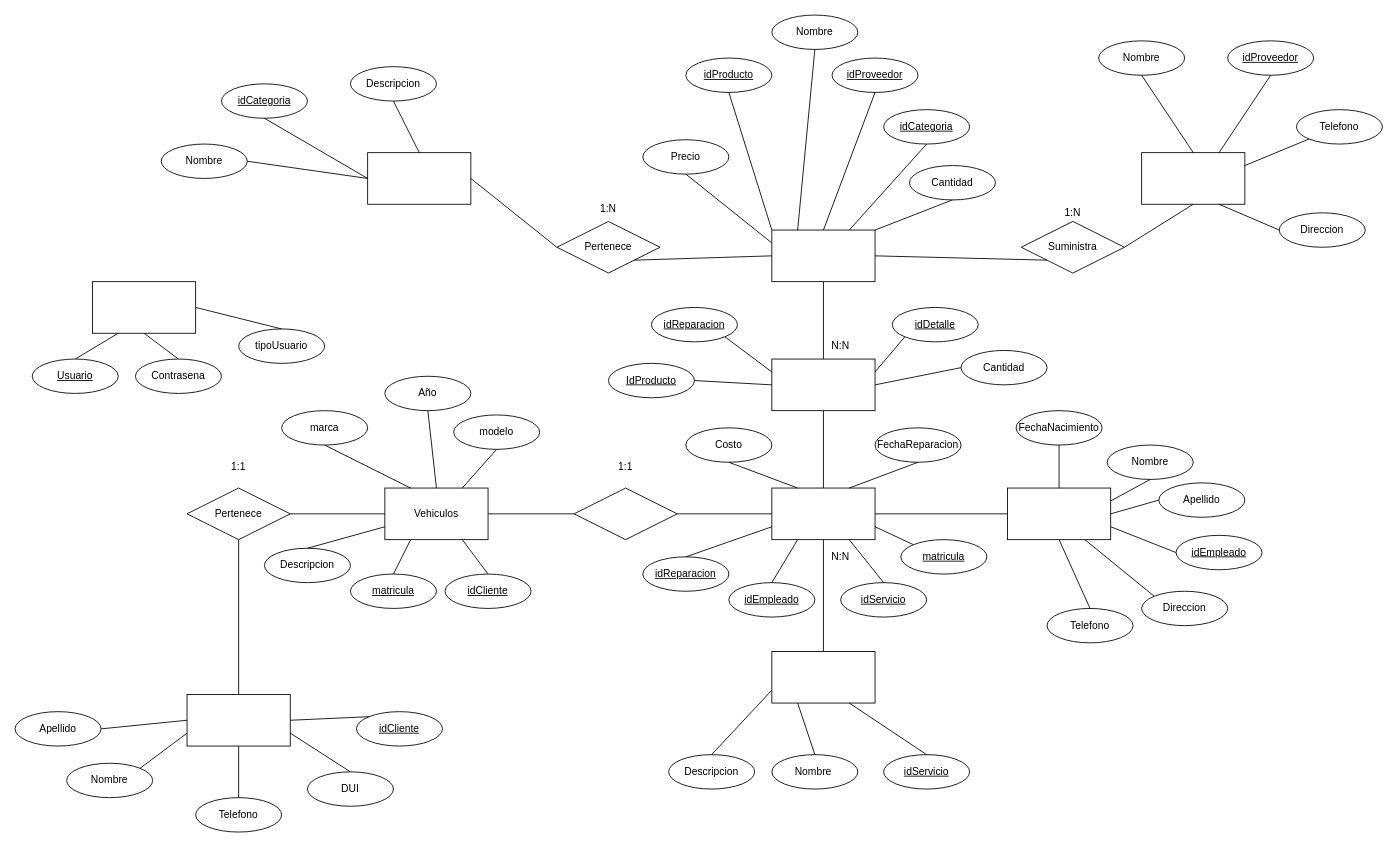
This 1398x847 diagram has some shape labels left out. Each missing label, with the centre of its shape:
"Categorias" goes at [419,178].
"Clientes" goes at [238,720].
"DetalleReparacion" goes at [823,384].
"Empleados" goes at [1059,513].
"Productos" goes at [823,255].
"Proveedores" goes at [1193,178].
"Reparacion" goes at [823,513].
"Servicios" goes at [823,677].
"Tiene" goes at [625,513].
"Usuarios" goes at [144,307].
